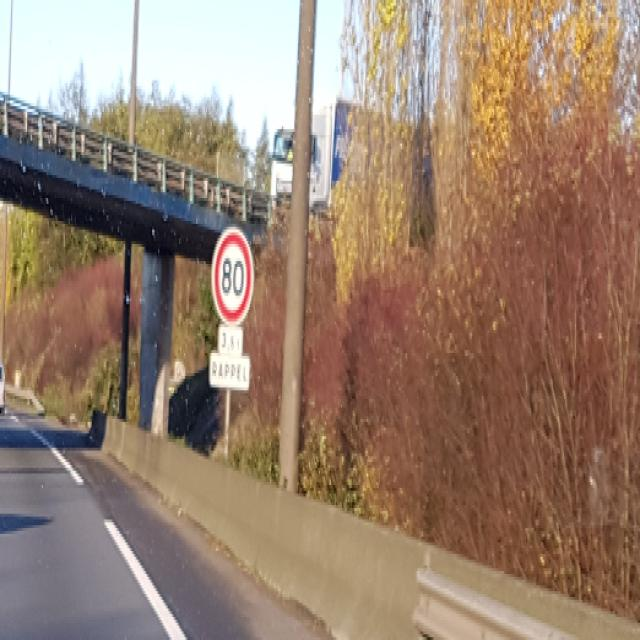speed_80: (212, 229, 254, 324)
